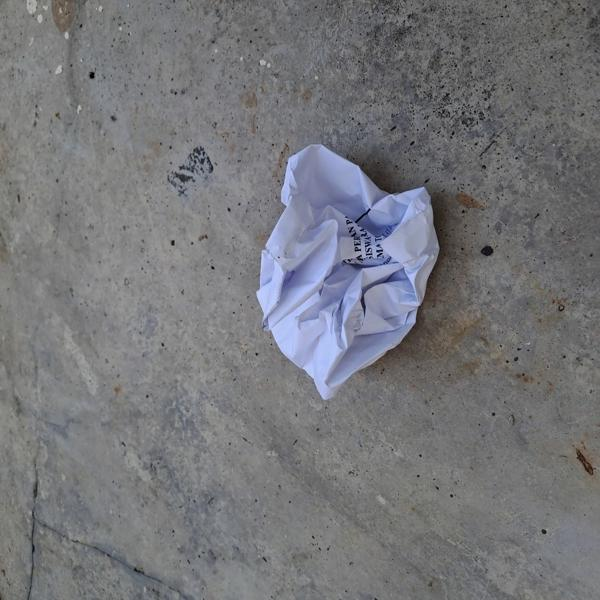Organik: (247, 137, 447, 413)
